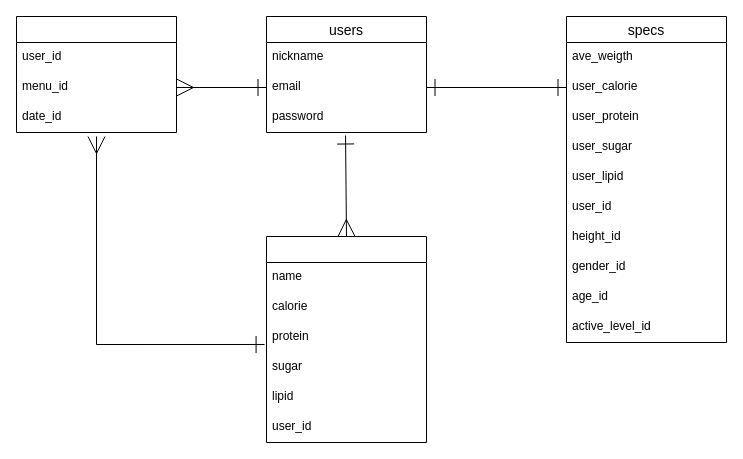
Image size: 743x459. Some labels were removed from this diagram. The shapes that lost their labels are listed below. From the top down, each one's box as (x1, y1, x2, y2) in pixels, then its label:
(16, 16, 176, 132): schedules
(266, 236, 426, 442): menus
